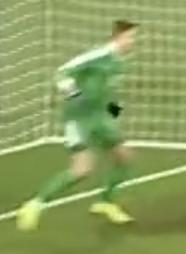goalkeeper: (8, 7, 153, 244)
